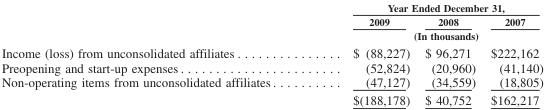table: (0, 1, 542, 106)
table column: (0, 1, 313, 106), (313, 1, 416, 106), (416, 1, 482, 106), (482, 1, 542, 106)
table column header: (0, 1, 542, 43)
table row: (0, 43, 542, 60), (0, 74, 542, 90), (0, 90, 542, 106), (0, 28, 542, 43), (0, 14, 542, 28), (0, 60, 542, 74), (0, 1, 542, 14)
table spanning cell: (313, 28, 542, 43), (313, 1, 542, 14)
